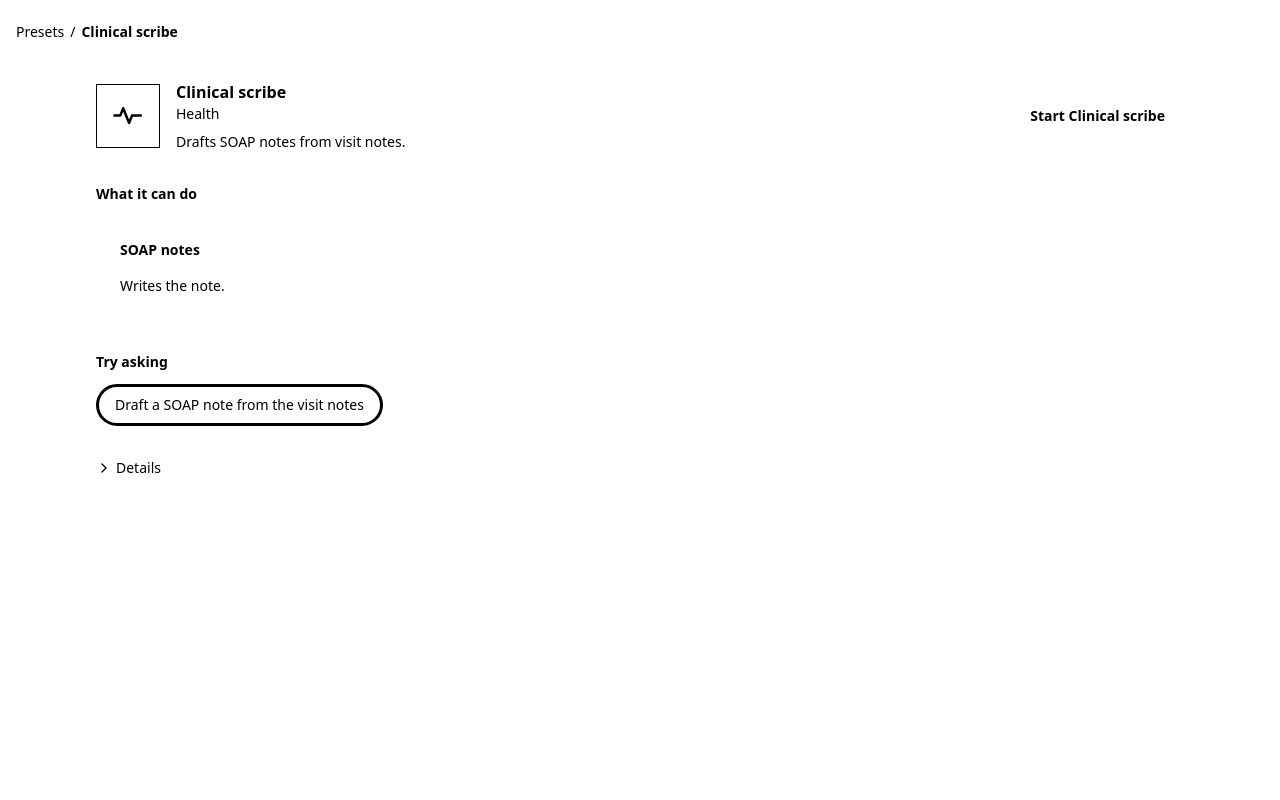
a template's page › folds away the instructions it follows, its sample files and the choice of agent
Click the button "Details" at coordinates (128, 468), box [96,458,161,478]
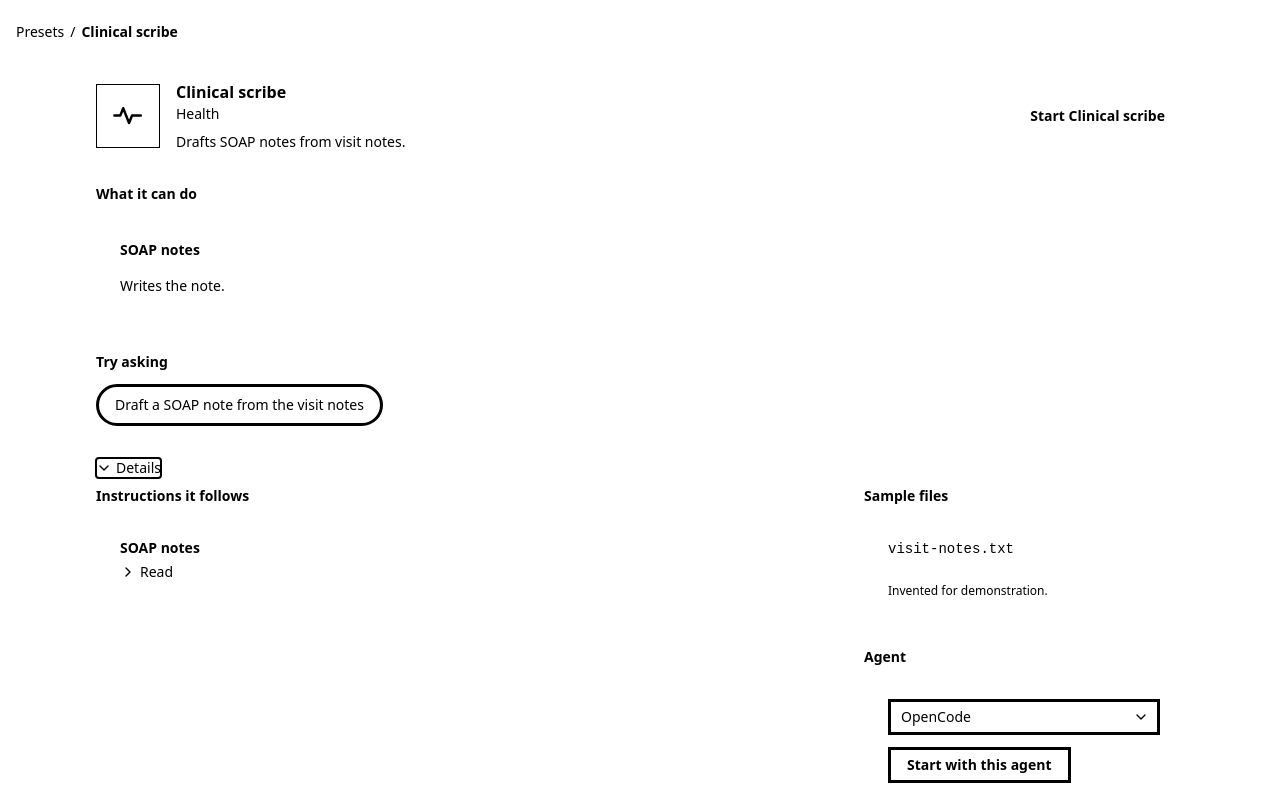
Now the heading "Instructions it follows" is shown, box [96,486,249,505]
Now the text "visit-notes.txt" is shown, box [888,541,1014,557]
Now the text "Invented for demonstration." is shown, box [888,582,1048,599]
Click the button "Read" at coordinates (147, 572), box [120,562,173,582]
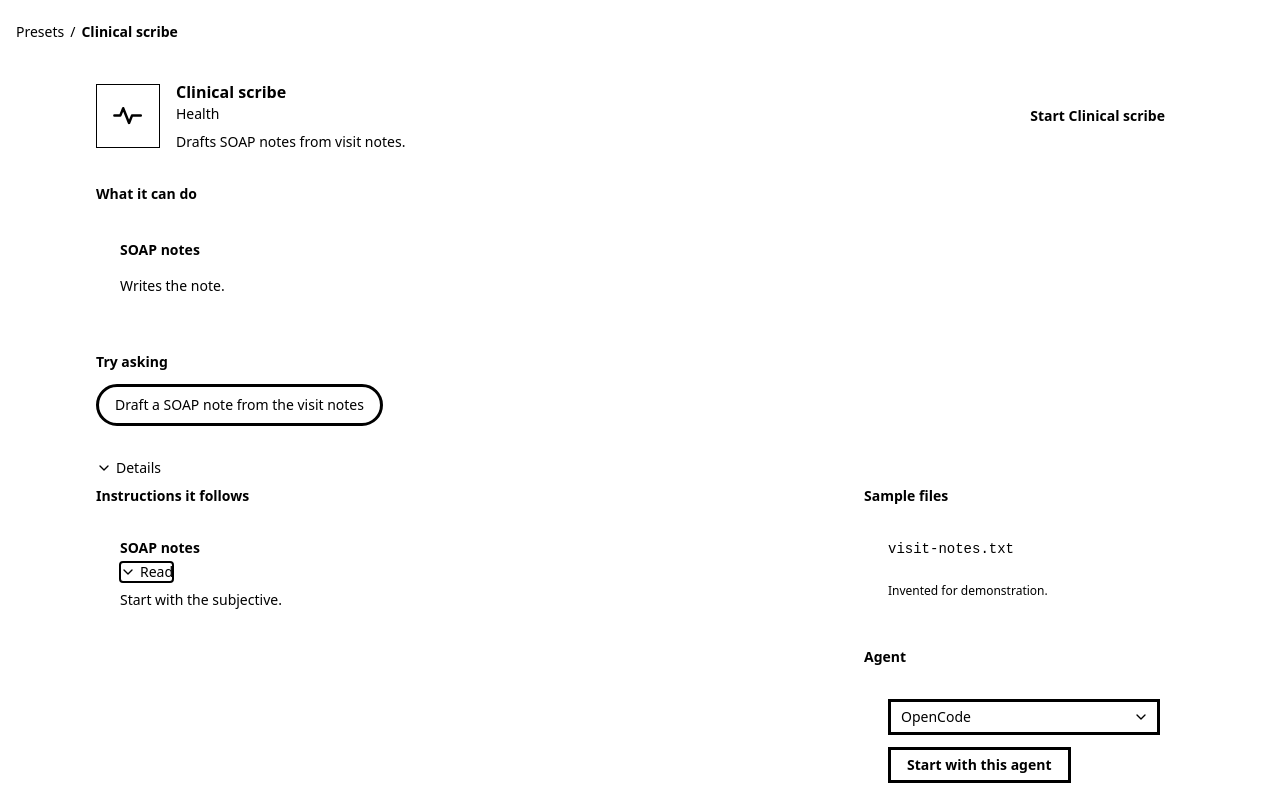
Now the text "Start with the subjective." is shown, box [120,590,282,609]
